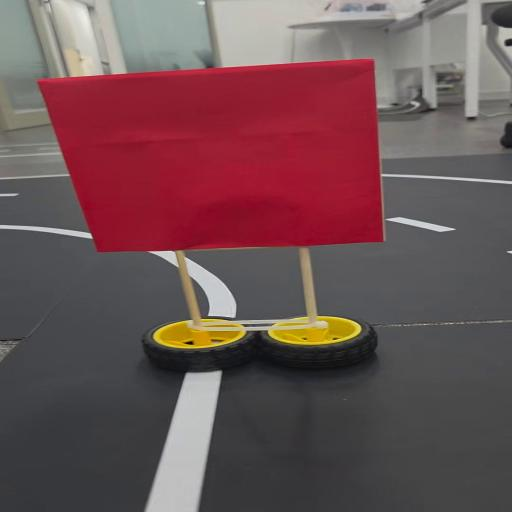Sign_A: (46, 56, 414, 380)
